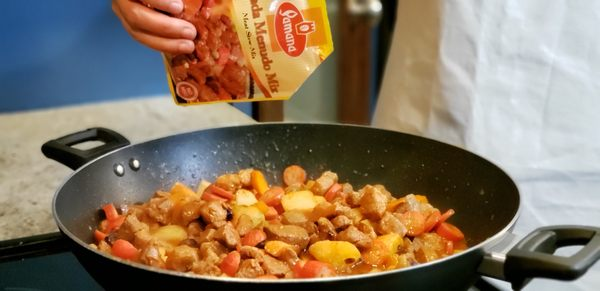sushi: (51, 121, 520, 290)
